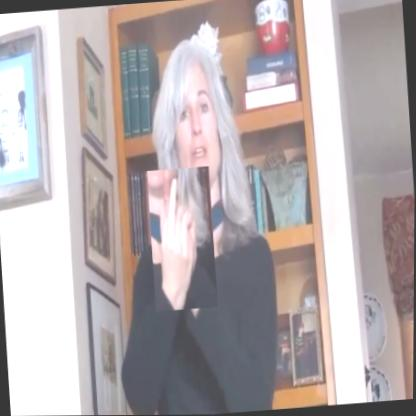NiceToMeetYou: (147, 166, 219, 312)
